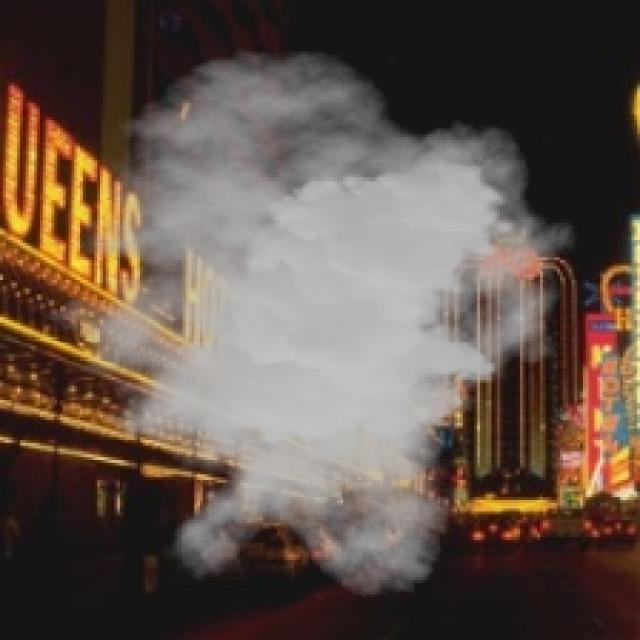smoke: (20, 49, 577, 600)
